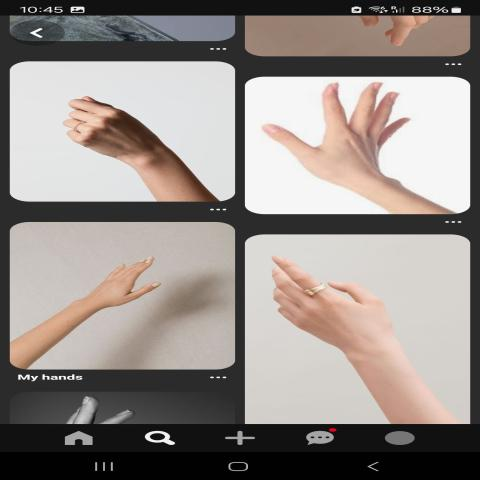hands: (251, 245, 441, 390), (38, 78, 205, 183), (264, 81, 416, 191), (66, 236, 186, 334)
